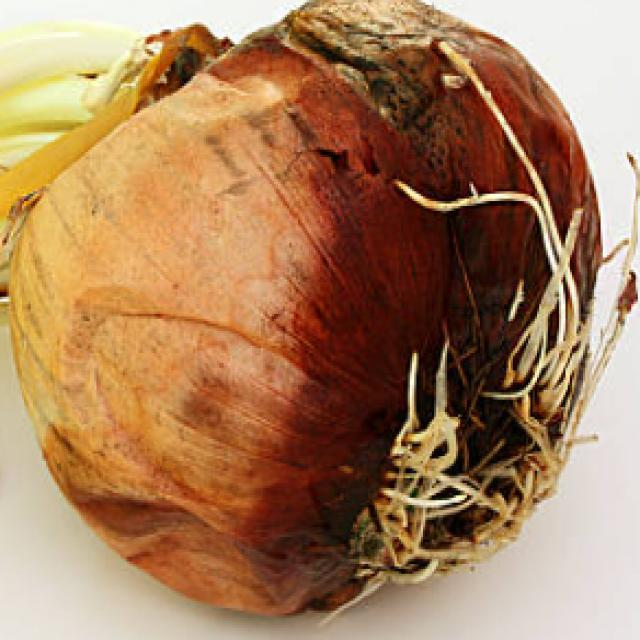rotten: (359, 386, 537, 562), (284, 8, 452, 132)
